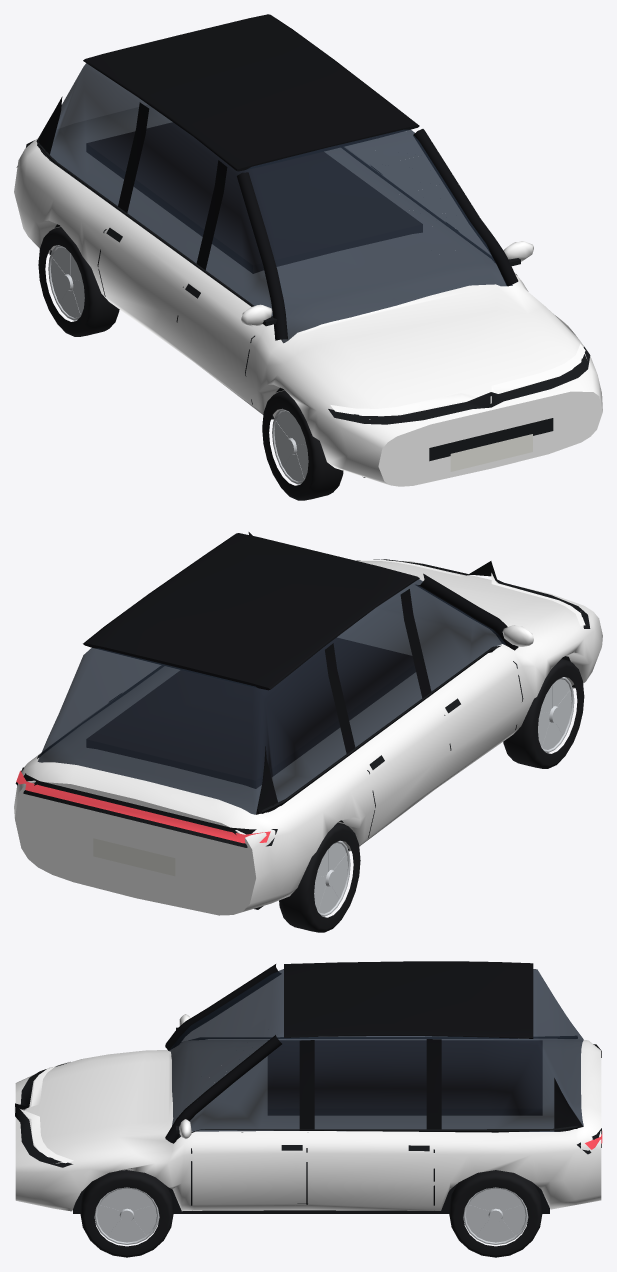
The model's file is voltara_luma.lod.glb.
3 views of the same model, one above another, from view 1: azimuth 30°, elevation 25°; view 2: azimuth 150°, elevation 25°; view 3: azimuth 270°, elevation 25° (orthographic). The views are drawn at different scales.
Parts seen in each view (by area): view 1: body_paint, body_glass, body_trim, body_roof, body_pillar, tire (×2), rim (×2), door_glass, headlights; view 2: body_paint, body_glass, body_trim, body_roof, tire (×2), body_pillar, rim (×2), taillights, headlights; view 3: body_paint, body_glass, body_trim, body_roof, door_paint, door_glass, tire (×2), rim (×2), body_pillar, door_pillar, headlights.
Part boxes in pixels (x1,y1,x2,y2): body_paint: (14,105,602,486); body_glass: (50,63,512,343); body_trim: (16,123,590,477); body_roof: (83,14,419,171); body_pillar: (36,96,518,340); tire (×2): (38,227,343,500); rim (×2): (48,245,308,484); door_glass: (375,130,485,255); headlights: (330,344,585,415); body_paint: (14,561,602,915); body_glass: (37,579,505,814); body_trim: (15,559,590,909); body_roof: (83,533,419,690); tire (×2): (279,659,584,932); body_pillar: (248,532,518,814); rim (×2): (314,677,574,916); taillights: (16,770,270,843); headlights: (357,560,585,625); body_paint: (15,1014,601,1211); body_glass: (168,969,583,1135); body_trim: (15,1027,601,1213); body_roof: (284,961,533,1038); door_paint: (194,1132,308,1210); door_glass: (191,1022,306,1131); tire (×2): (80,1170,542,1257); rim (×2): (94,1187,528,1244); body_pillar: (165,964,583,1143); door_pillar: (194,1040,303,1130); headlights: (14,1061,73,1163).
Bounding box in the file's own units: 1.86 × 1.53 × 3.92.
